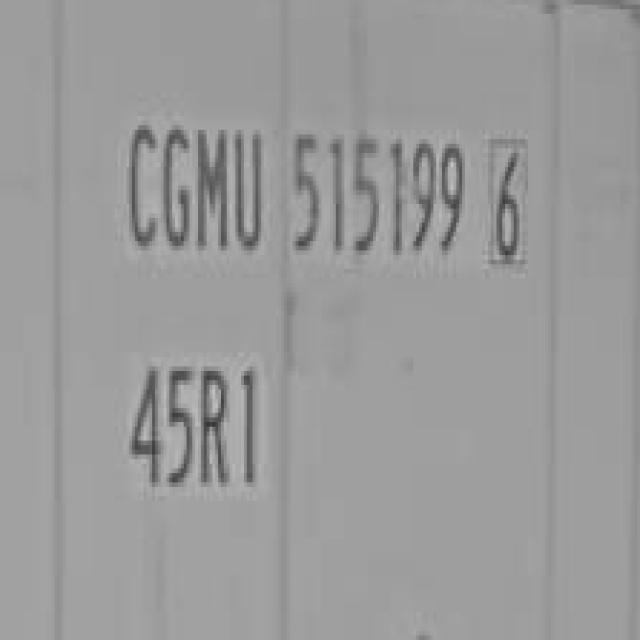dv: (484, 126, 533, 276)
owner: (122, 106, 266, 266)
serial: (287, 114, 467, 280)
size: (116, 337, 266, 506)
